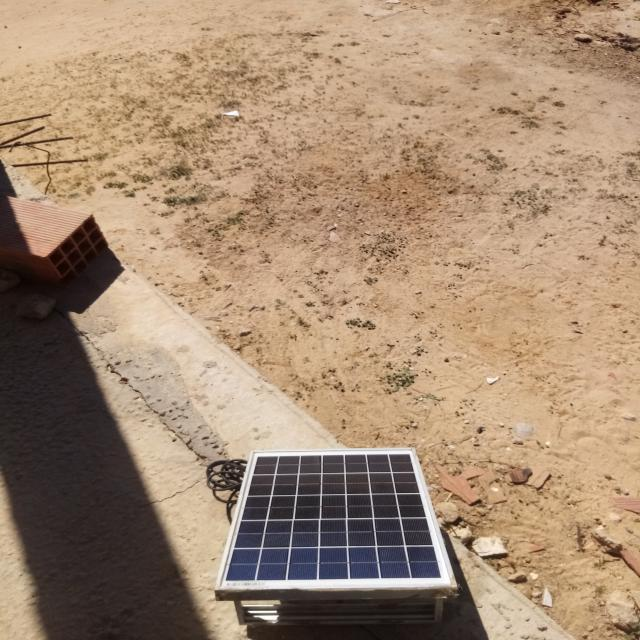Normal Solar Panel: (217, 451, 457, 594)
